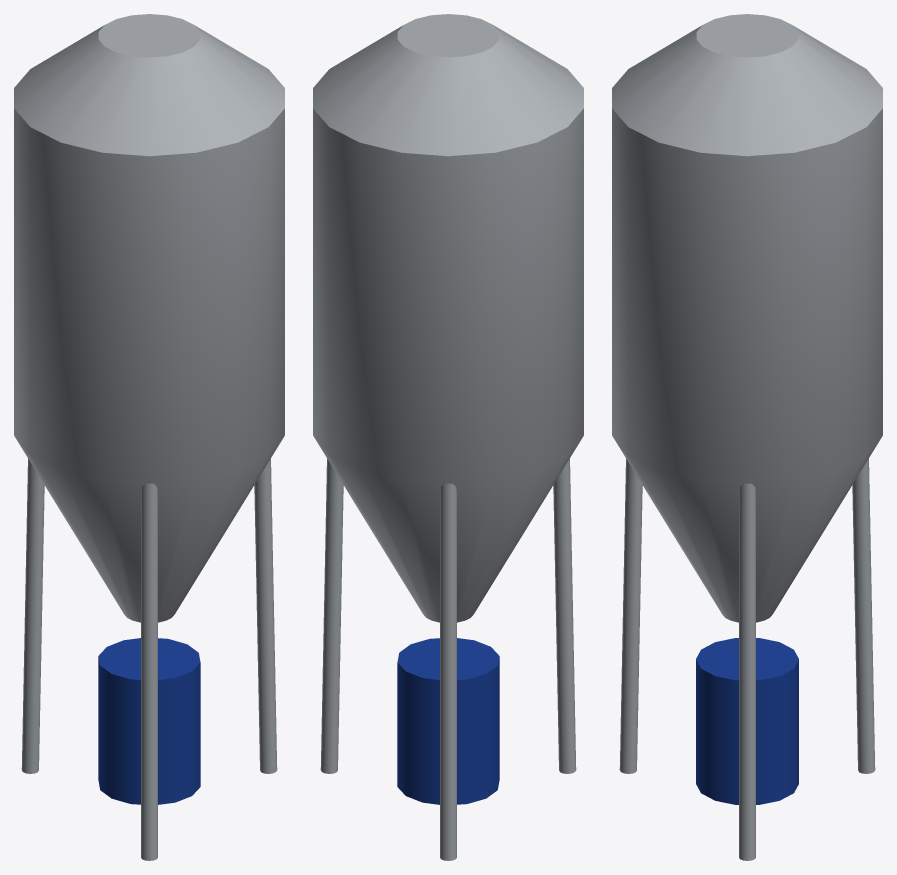
The model's file is industrial.machine.dust_extractor.glb.
The picture shows the model from 3 angles, left to right: view 1: azimuth 30°, elevation 25°; view 2: azimuth 150°, elevation 25°; view 3: azimuth 270°, elevation 25°; orthographic projection.
Parts seen in each view (by area): view 1: main__steel_galvanised, main__plastic_blue; view 2: main__steel_galvanised, main__plastic_blue; view 3: main__steel_galvanised, main__plastic_blue.
Part boxes in pixels (<box>): main__steel_galvanised: <box>14,14,284,860</box>; main__plastic_blue: <box>98,638,200,804</box>; main__steel_galvanised: <box>313,14,583,860</box>; main__plastic_blue: <box>397,638,499,804</box>; main__steel_galvanised: <box>612,14,882,860</box>; main__plastic_blue: <box>696,638,798,804</box>.
Bounding box in the file's own units: 1.65 × 4.9 × 1.58.
